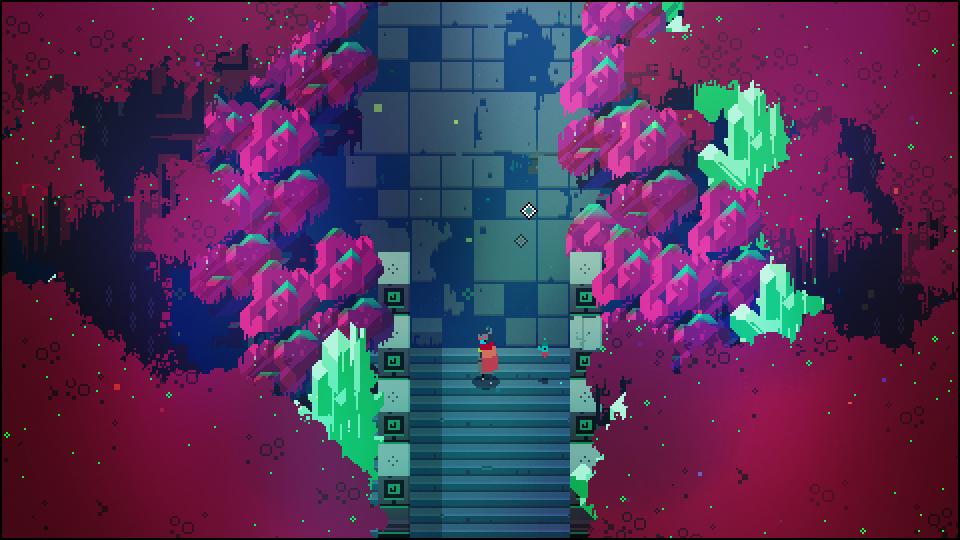player: (475, 329, 500, 383)
